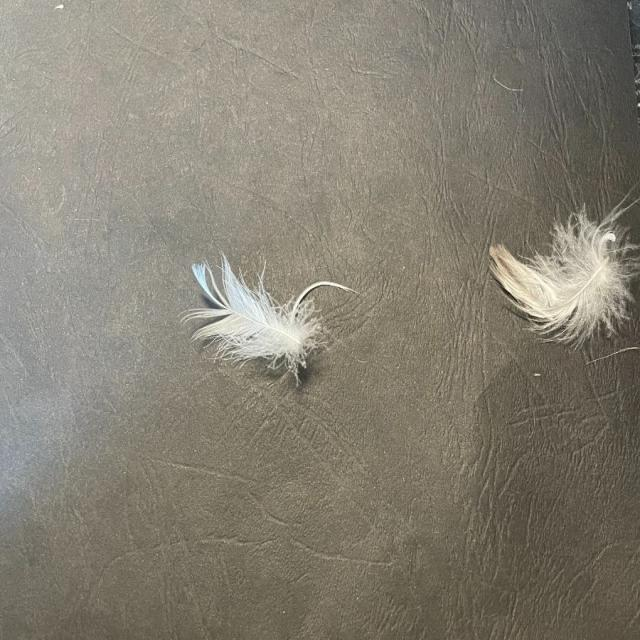feather: (487, 198, 639, 346), (180, 252, 323, 382)
